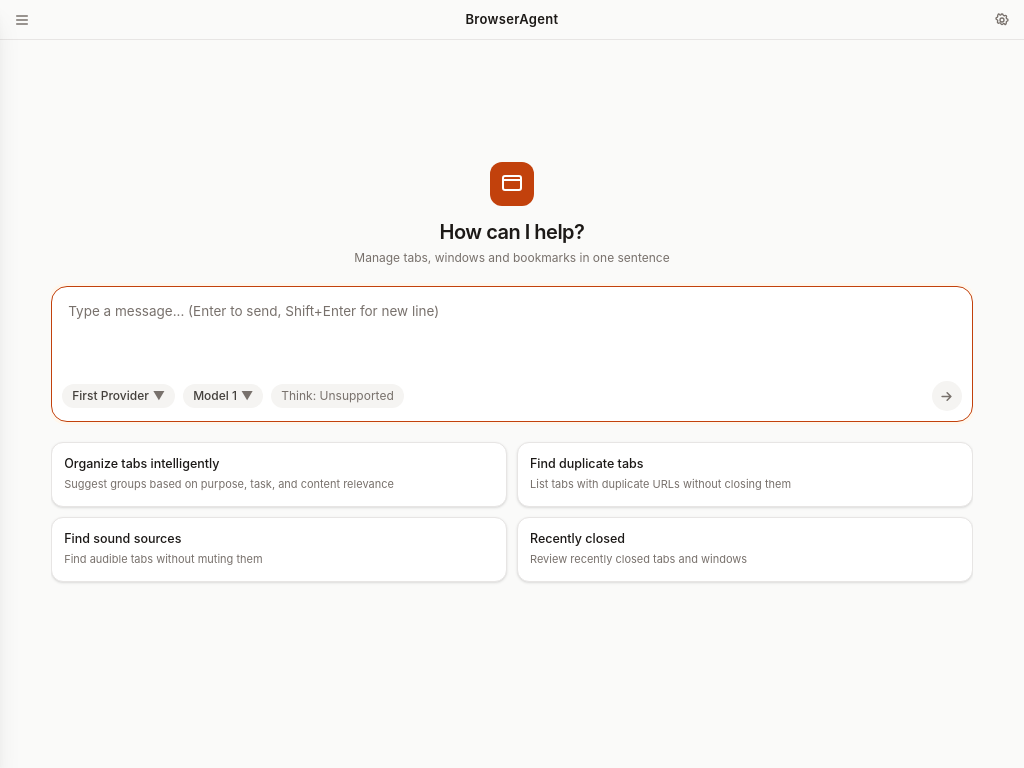
Scenario: ChatOnboarding › 切换 Provider、模型和思考等级后写回 Provider 配置
The width and height of the screenshot is (1024, 768).
What coordinates should you click on to do the following:
click the dropdown labelled "Provider"
I would click on:
 (119, 396)
Its box is [62, 384, 175, 408].
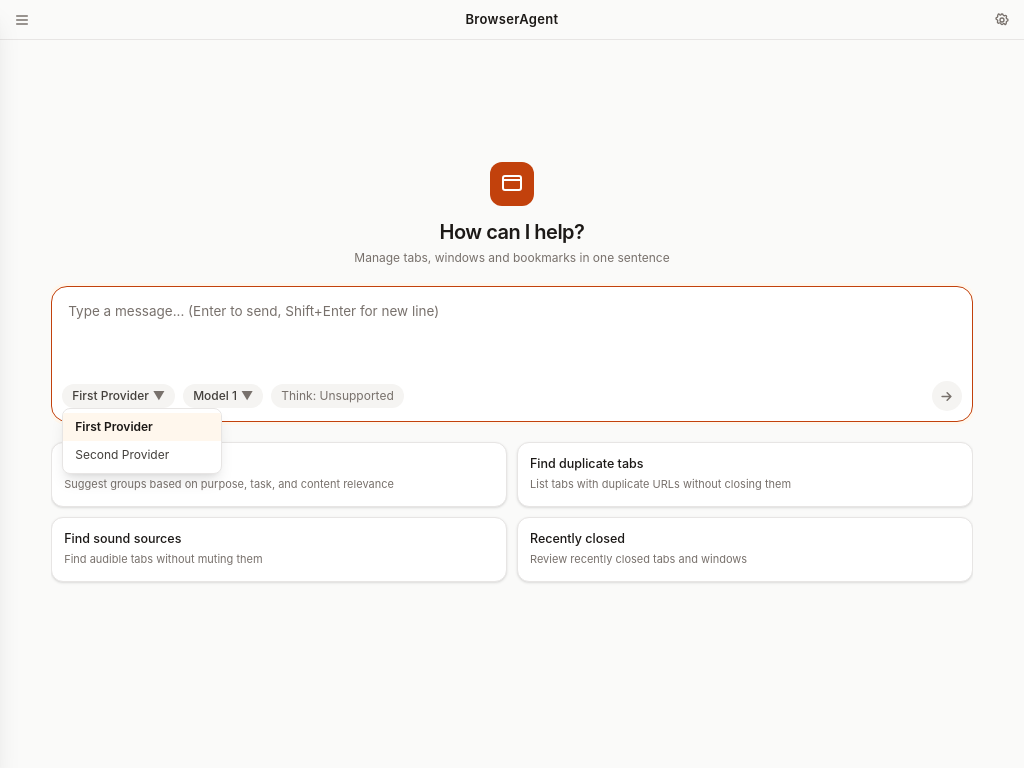
What coordinates should you click on to do the following:
click the option "Second Provider"
I would click on:
 (122, 455)
Its box is [75, 447, 169, 462].
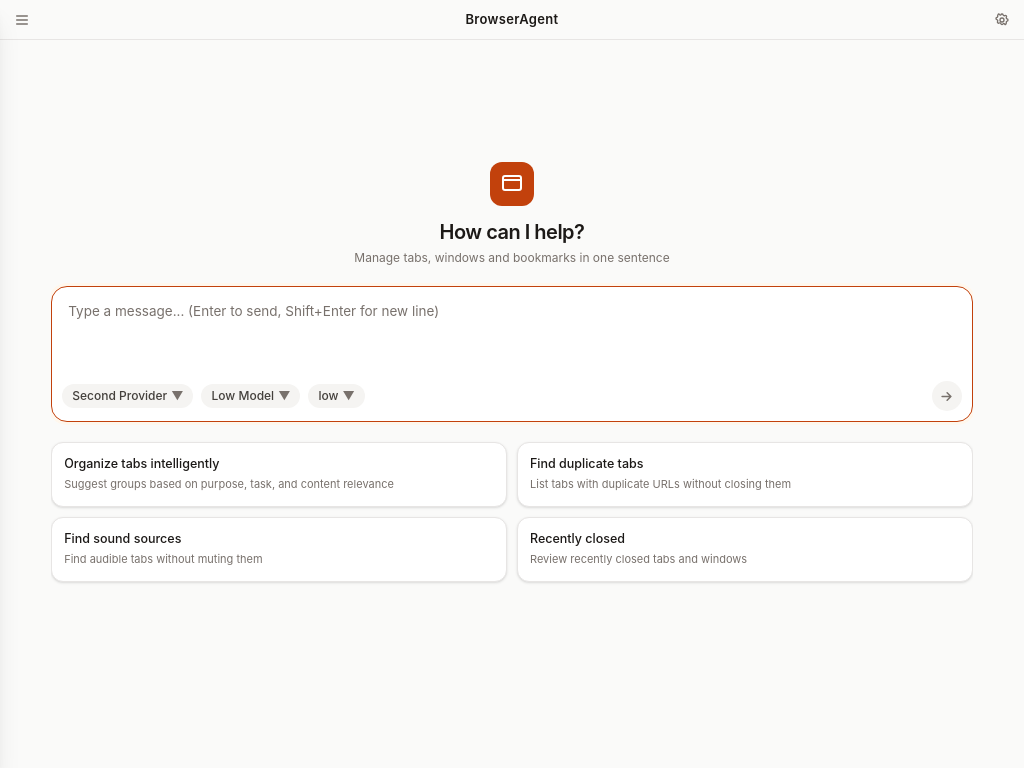
What coordinates should you click on to do the following:
click the dropdown labelled "Model"
I would click on:
 (251, 396)
Its box is [202, 384, 300, 408].
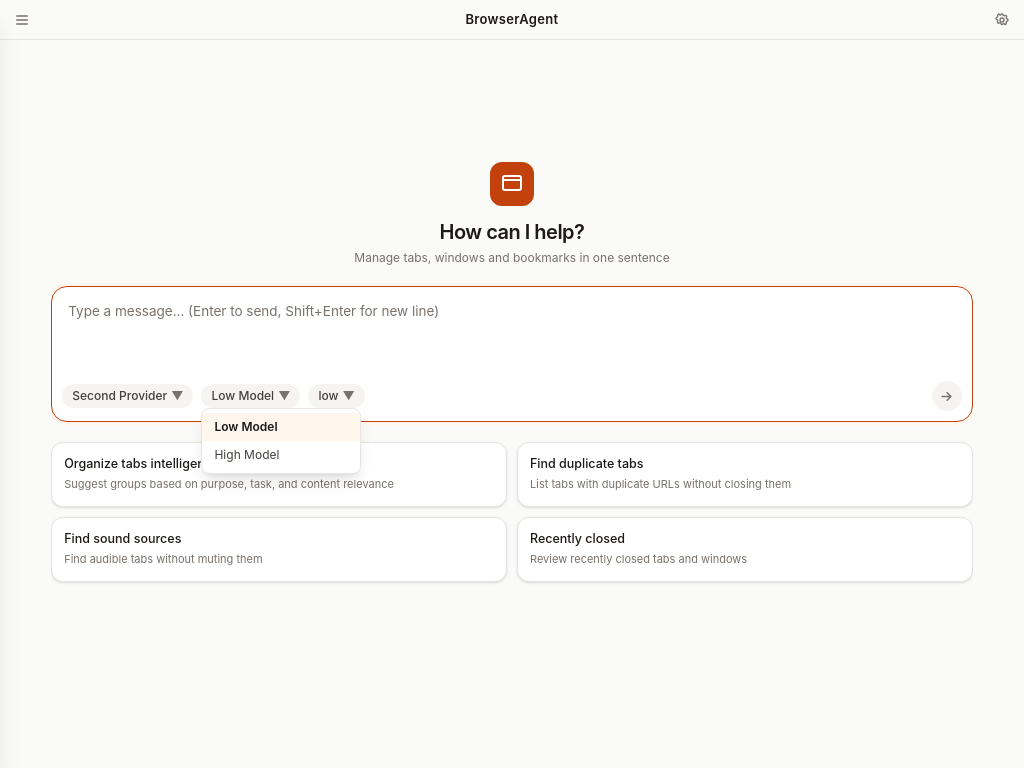
What coordinates should you click on to do the following:
click the option "High Model"
I would click on:
 (247, 455)
Its box is [214, 447, 280, 462].
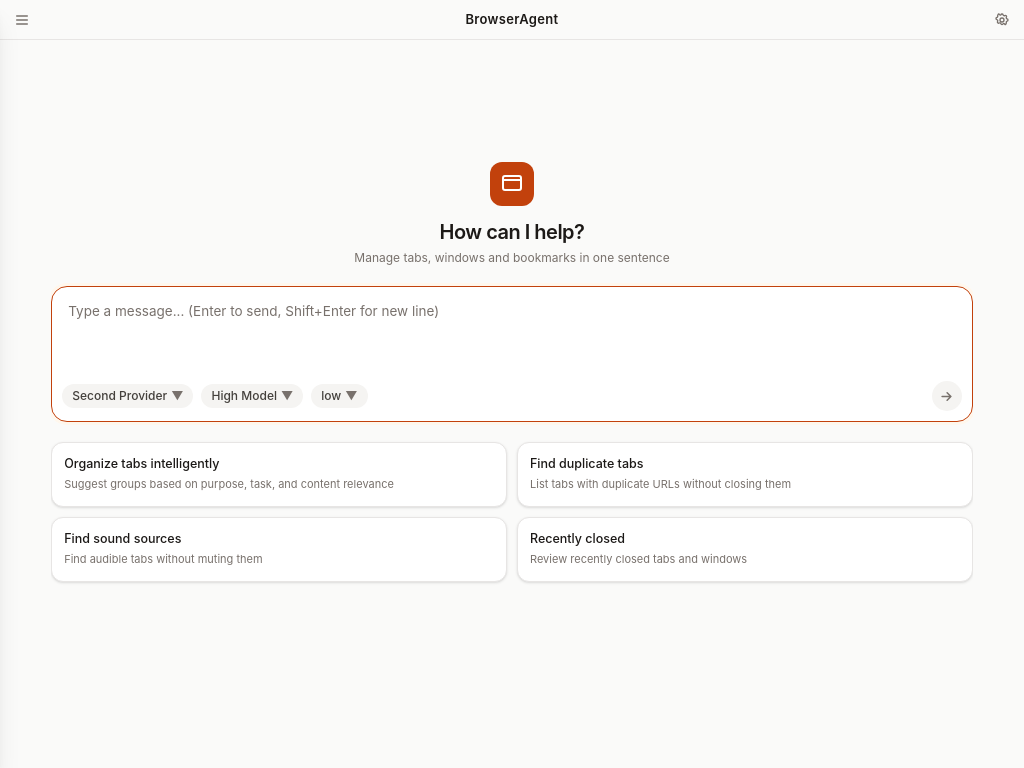
What coordinates should you click on to do the following:
click the dropdown named "Reasoning"
I would click on:
 (339, 396)
Its box is [311, 384, 368, 408].
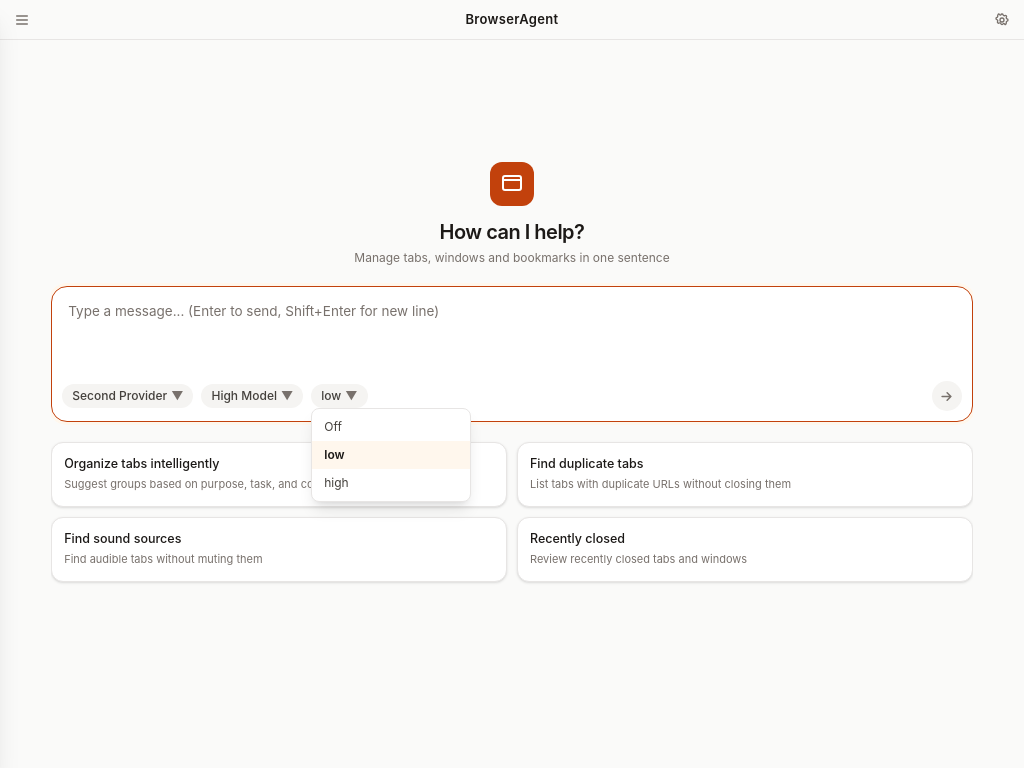
What coordinates should you click on to do the following:
click the option "high"
I would click on:
 (337, 483)
Its box is [324, 475, 349, 490].
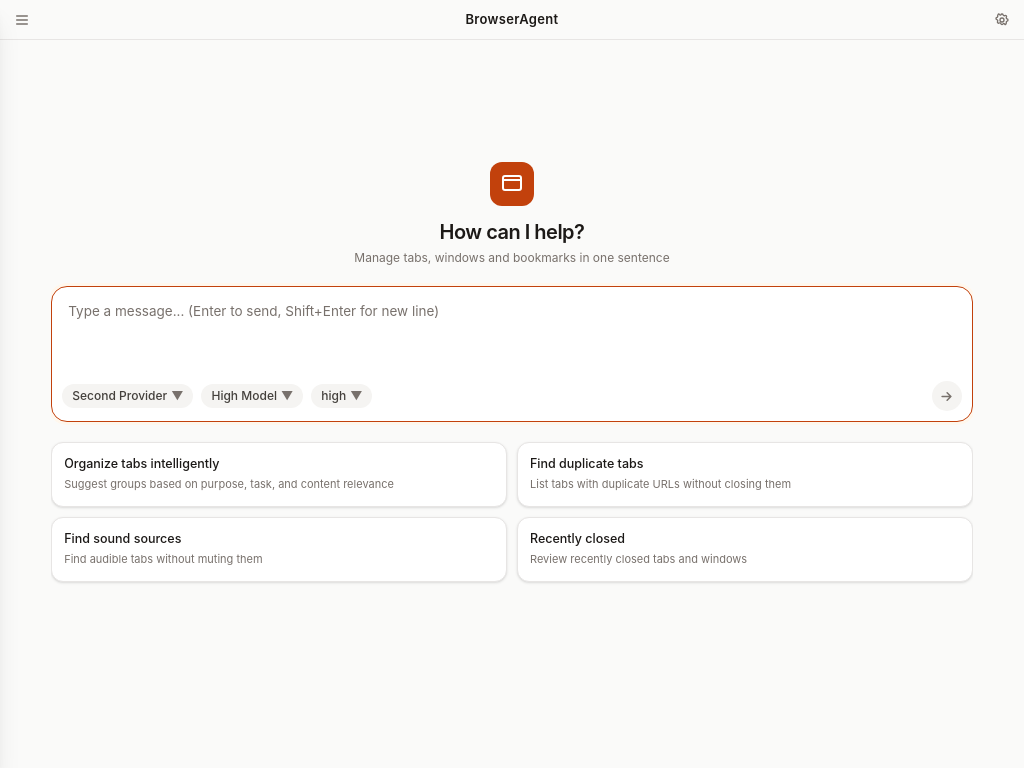
Expected: the text "high" is shown, [321, 388, 346, 404]
